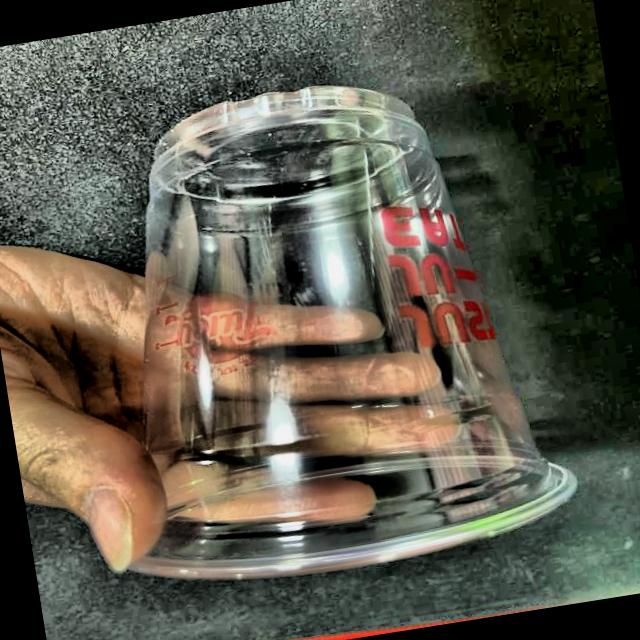plastic cup: (46, 49, 590, 606)
